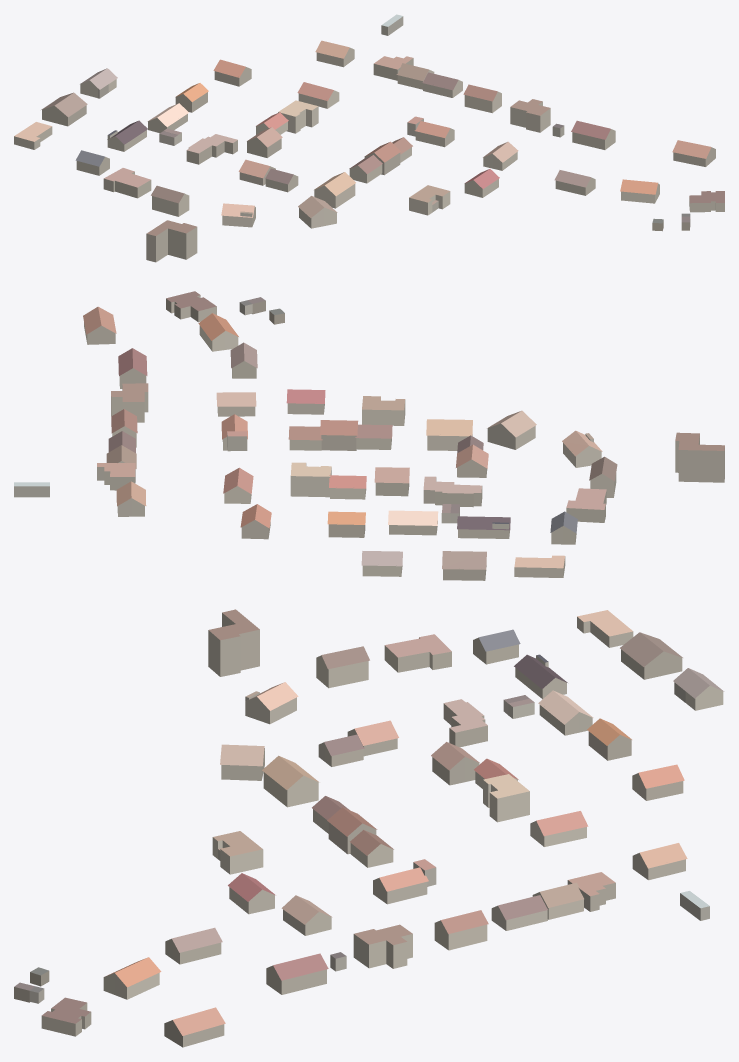
3 renders of one model, top to bottom at view 1: azimuth 30°, elevation 25°; view 2: azimuth 150°, elevation 25°; view 3: azimuth 270°, elevation 25°, orthographic. The views are drawn at different scales.
Parts seen in each view (by area): view 1: tuile; view 2: tuile; view 3: tuile.
Boxes of the visible parts, x1,y1,x2,y2 form: tuile: (14,14,724,262); tuile: (14,291,724,580); tuile: (14,609,724,1047).
Bounding box in the file's own units: 261 × 27.92 × 209.
